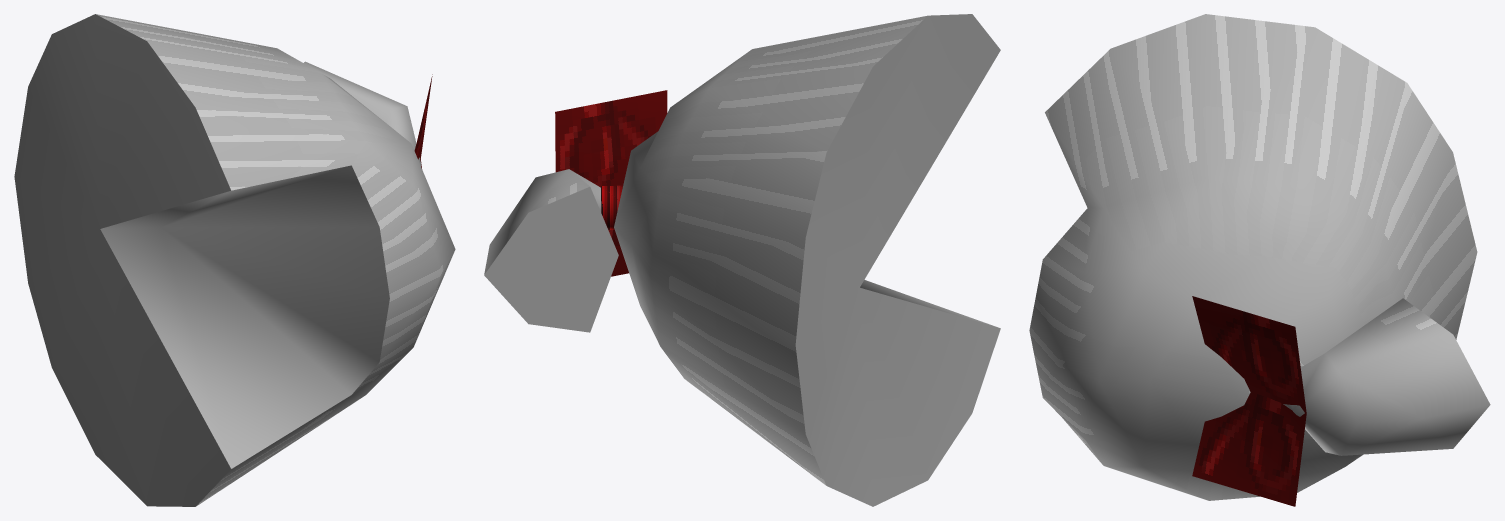
The model's file is hlmt_wig_kintarou.dae.
The picture shows the model from 3 angles, left to right: view 1: azimuth 30°, elevation 25°; view 2: azimuth 150°, elevation 25°; view 3: azimuth 270°, elevation 25°; orthographic projection. The views are drawn at different scales.
Visible parts, largest first — view 1: hlmt_wig_kintarou; view 2: hlmt_wig_kintarou; view 3: hlmt_wig_kintarou.
Part boxes in pixels (left/top/right/bottom): hlmt_wig_kintarou: left=14, top=14, right=455, bottom=506; hlmt_wig_kintarou: left=484, top=14, right=1000, bottom=506; hlmt_wig_kintarou: left=1029, top=14, right=1490, bottom=506.
Bounding box in the file's own units: 24.33 × 31.65 × 27.76.
Materials: 2 (2 with a texture image).
